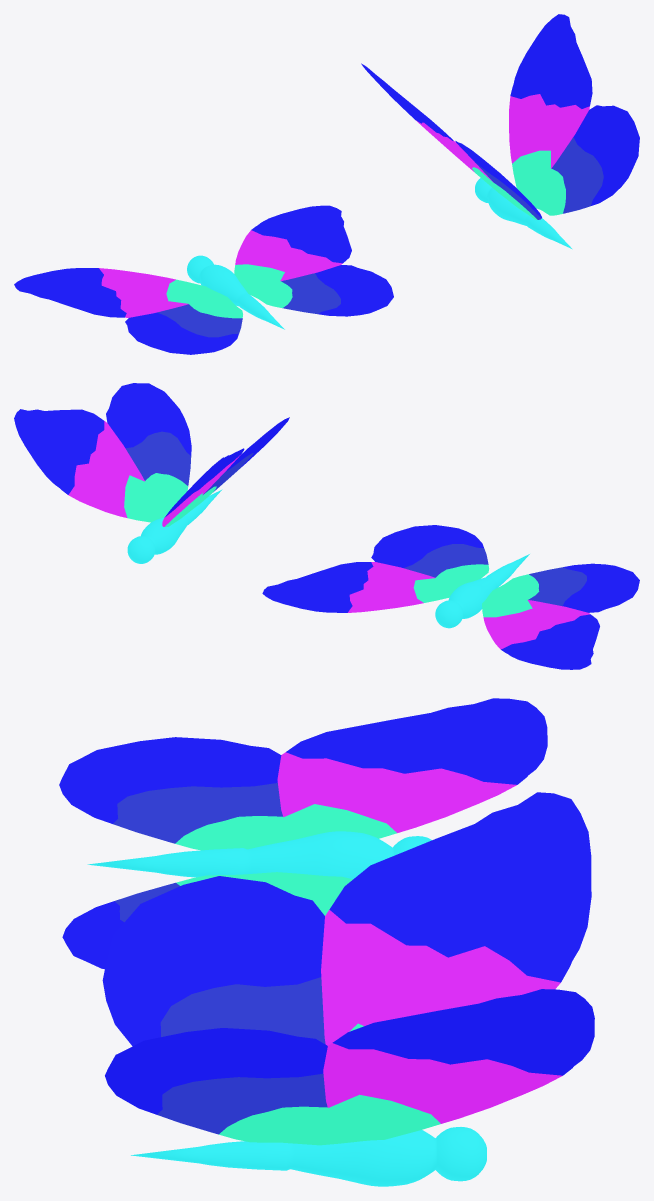
The model's file is Butterfly.glb.
The picture shows the model from 3 angles, top to bottom: view 1: azimuth 30°, elevation 25°; view 2: azimuth 150°, elevation 25°; view 3: azimuth 270°, elevation 25°; orthographic projection. The views are drawn at different scales.
Parts seen in each view (by area): view 1: part 1.001, part 1.003; view 2: part 1.001, part 1.003; view 3: part 1.003, part 1.001.
Boxes of the visible parts, x1=… form: part 1.001: x1=14, y1=205, x2=393, y2=354; part 1.003: x1=361, y1=14, x2=639, y2=249; part 1.001: x1=262, y1=525, x2=639, y2=669; part 1.003: x1=14, y1=383, x2=289, y2=563; part 1.003: x1=102, y1=792, x2=594, y2=1186; part 1.001: x1=59, y1=698, x2=547, y2=969.
Bounding box in the file's own units: 10.2 × 2.55 × 4.23.
